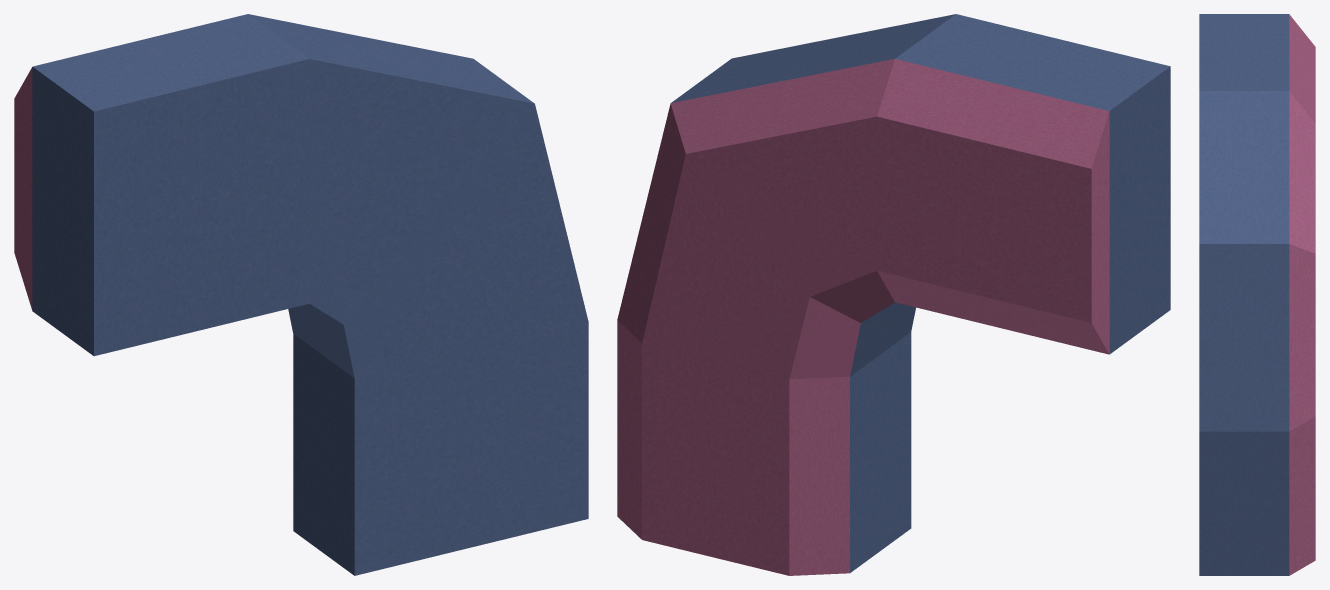
Rendered from de_pink_4.fbx.
3 views of the same model, side by side, from view 1: azimuth 30°, elevation 25°; view 2: azimuth 150°, elevation 25°; view 3: azimuth 270°, elevation 25° (orthographic). The views are drawn at different scales.
Visible parts, largest first — view 1: Cube.315; view 2: Cube.315; view 3: Cube.315.
Boxes of the visible parts, x1,y1,x2,y2 form: Cube.315: (14,14,588,575); Cube.315: (617,14,1170,575); Cube.315: (1199,14,1315,575).
Size of the model in its own units: 372 by 379 by 103.
